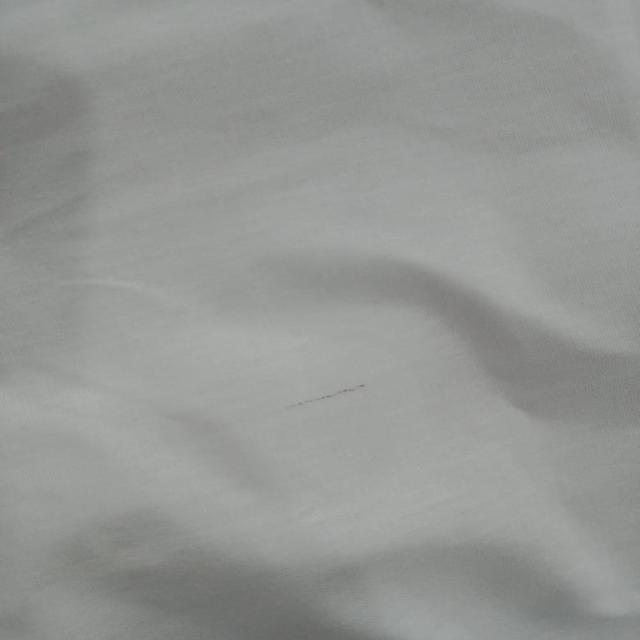contamination: (269, 377, 390, 417)
